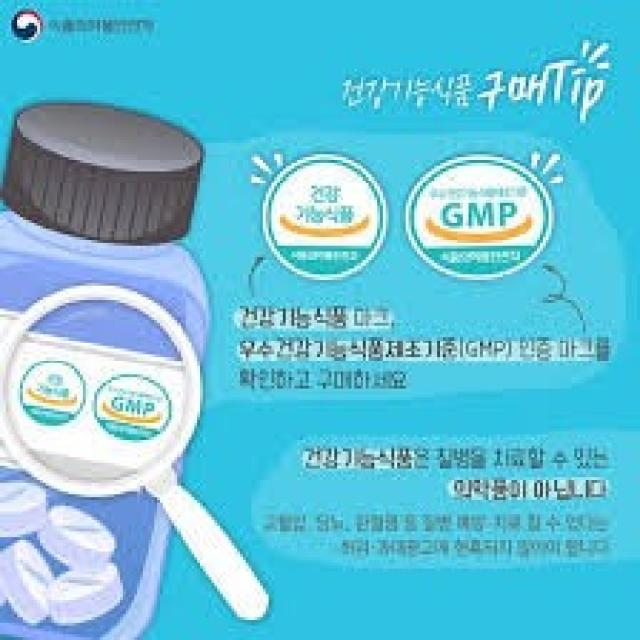GMP: (406, 148, 554, 278)
HEALTHY: (259, 150, 389, 284)
